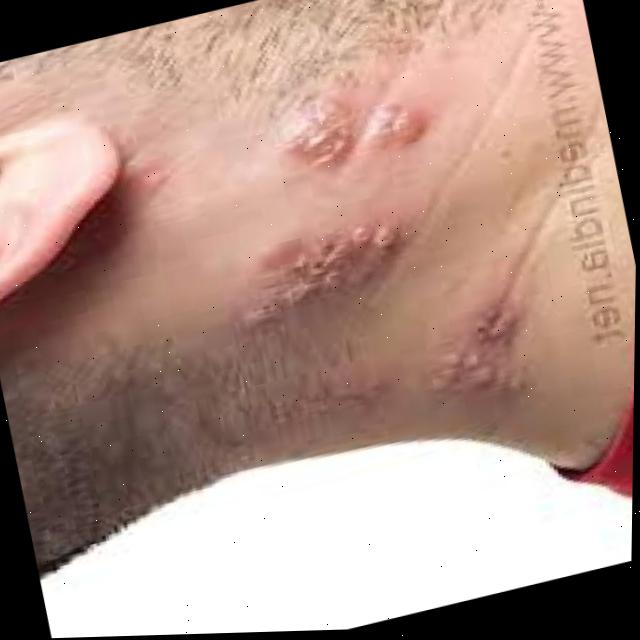Shingles: (241, 221, 408, 328), (285, 68, 427, 188), (418, 289, 531, 390)
